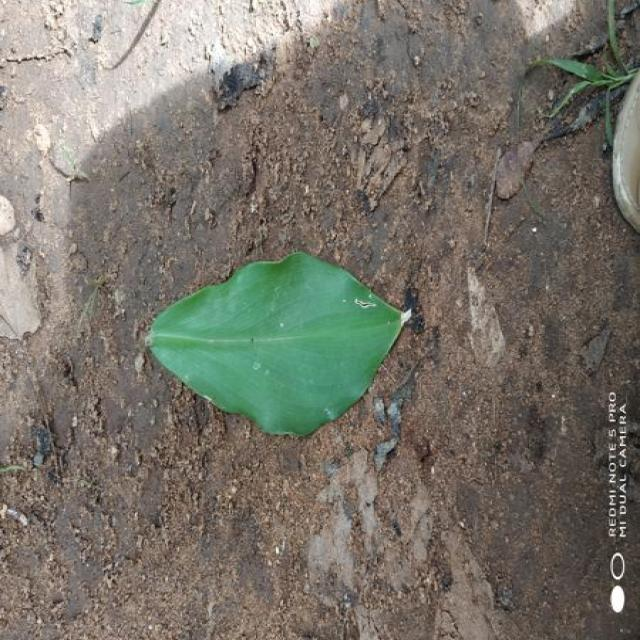insulin: (147, 252, 412, 434)
